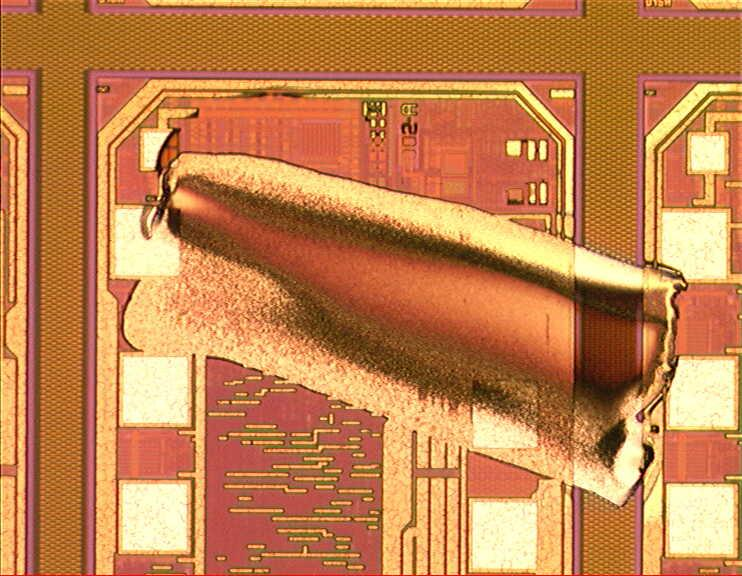BLOCK ETCH: (123, 90, 689, 512)
